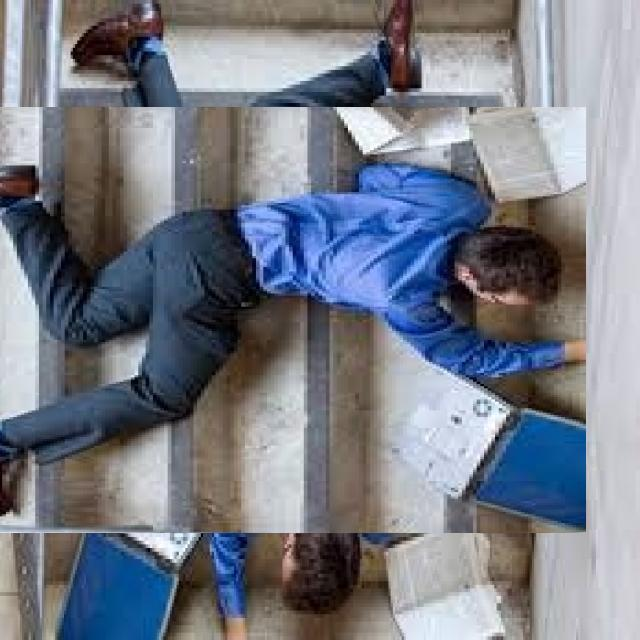Fall: (7, 108, 587, 531)
